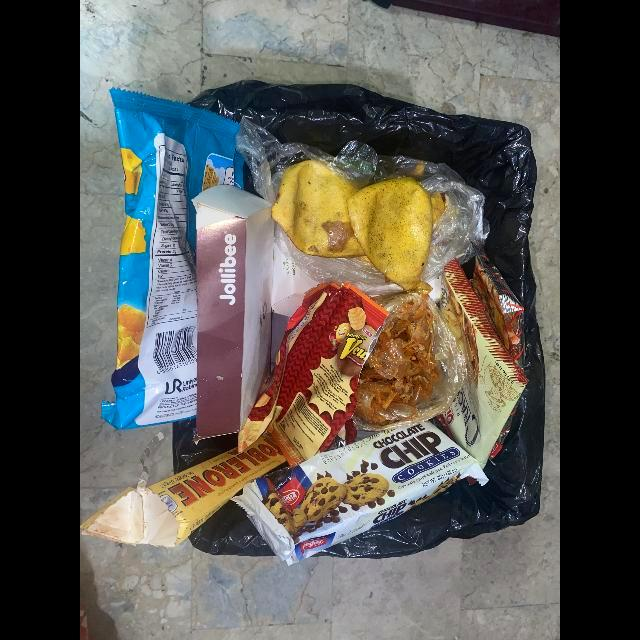cardboard: (80, 431, 286, 548), (192, 184, 274, 444), (272, 243, 319, 317)
food_wrapper: (102, 88, 244, 432), (231, 422, 489, 565), (237, 282, 389, 468), (437, 259, 528, 470), (472, 241, 524, 370)
left_over_food: (354, 291, 439, 427)
